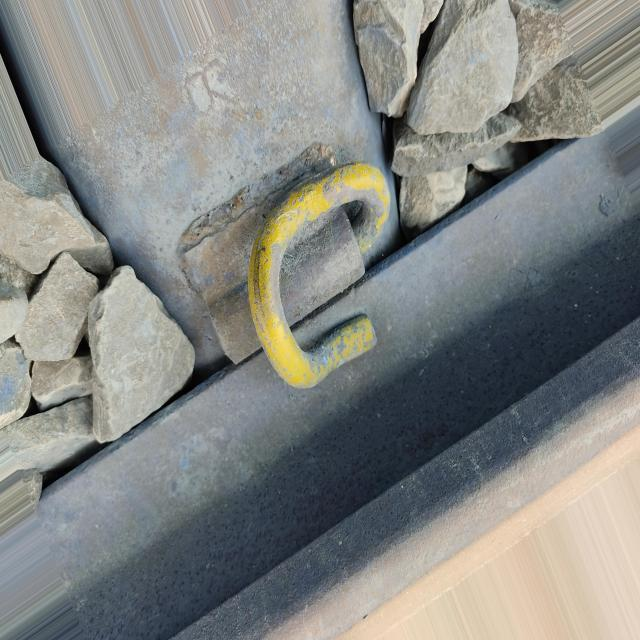Good Fasteners: (172, 143, 390, 390)
